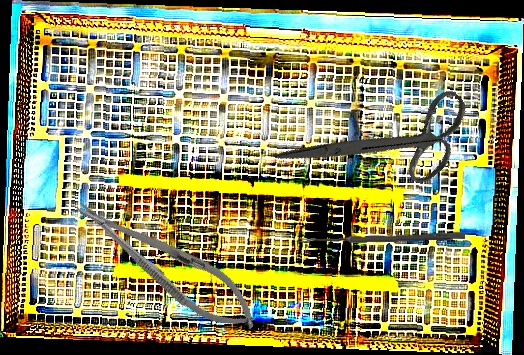Iris Scissors: (273, 38, 488, 247)
Needle Holder: (64, 183, 270, 345)
Surgical Spoon: (297, 231, 466, 245)
